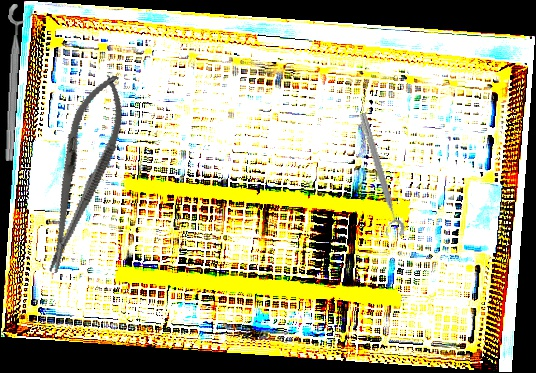Fixation Ring: (349, 111, 407, 240), (0, 3, 35, 162)
Needle Holder: (27, 67, 137, 280)
